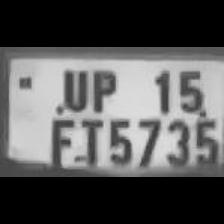1: (144, 67, 174, 113)
3: (161, 115, 189, 169)
5: (189, 113, 219, 167), (172, 68, 206, 114), (104, 113, 134, 165)
7: (132, 114, 162, 168)
F: (45, 113, 76, 167)
P: (86, 65, 122, 111)
T: (74, 115, 104, 167)
U: (54, 65, 90, 111)
